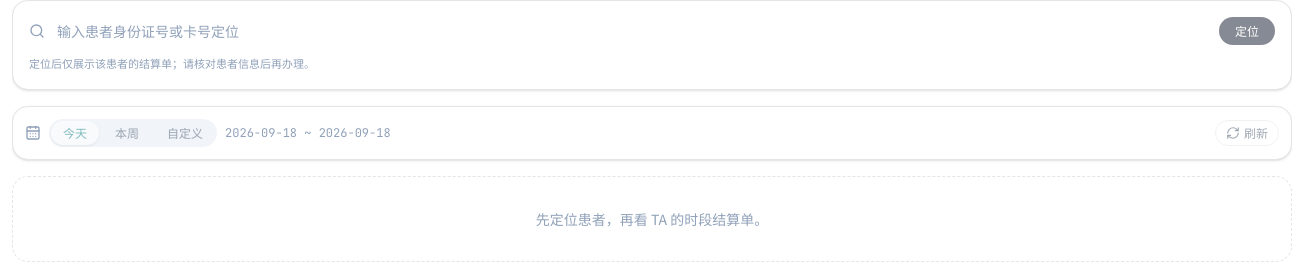
Test case: SettlementTimeBrowser（患者定位 + 时间浏览） › 定位成功显示患者卡（脱敏身份证）并自动按患者加载列表
In the field labelled "患者身份证号或卡号": (632, 31) x1=53 y1=17 x2=1211 y2=45, type "110103194203280937"
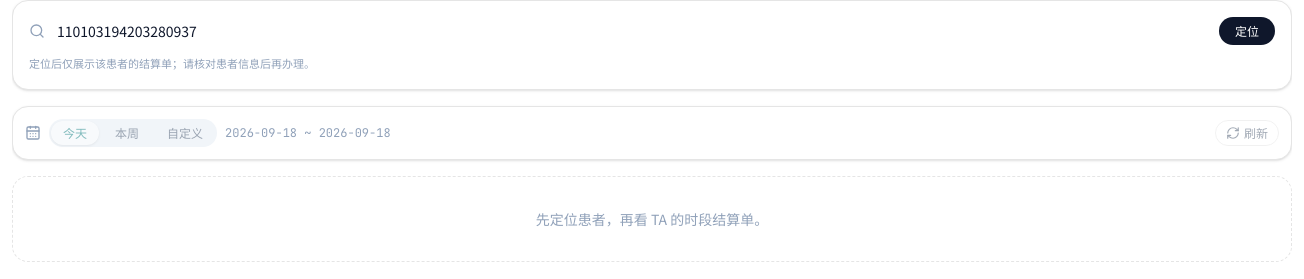
Click the button "定位": click(1247, 31) x1=1219 y1=17 x2=1275 y2=45
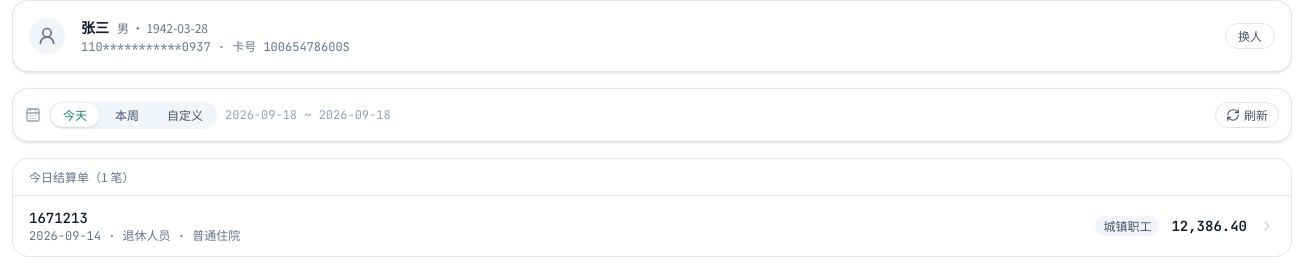
Now the element with test id "patient-card" is shown, box x1=12 y1=0 x2=1292 y2=72
Now the text "张三" is shown, box x1=81 y1=17 x2=109 y2=37
Now the text "110***********0937 · 卡号 10065478600S" is shown, box x1=81 y1=39 x2=350 y2=55
